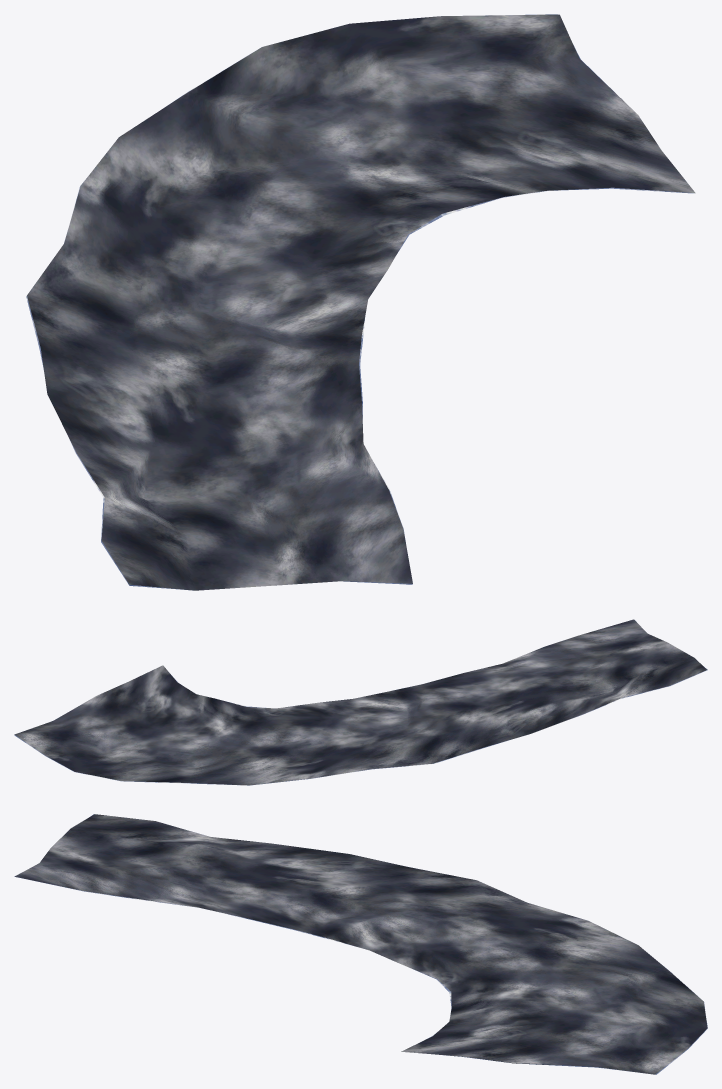
Rendered from HTOWN01_WATER02.fbx.
3 renders of one model, top to bottom at view 1: azimuth 30°, elevation 25°; view 2: azimuth 150°, elevation 25°; view 3: azimuth 270°, elevation 25°, orthographic. The views are drawn at different scales.
Parts seen in each view (by area): view 1: HTOWN01_WATER02; view 2: HTOWN01_WATER02; view 3: HTOWN01_WATER02.
Boxes of the visible parts, x1,y1,x2,y2 form: HTOWN01_WATER02: (26, 14, 695, 590); HTOWN01_WATER02: (14, 619, 707, 785); HTOWN01_WATER02: (14, 814, 707, 1074).
Size of the model in its own units: 367304 by 1618 by 414112.
2 materials, 2 textured.
